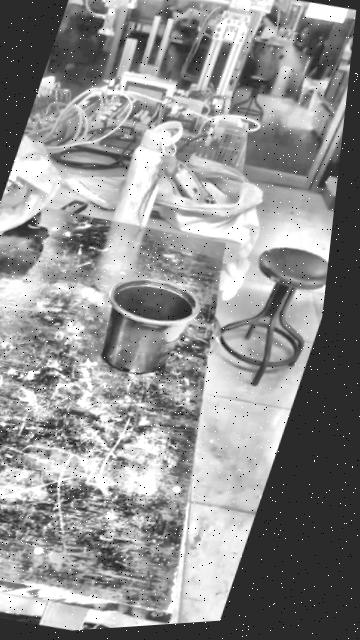pot: (83, 267, 207, 385)
